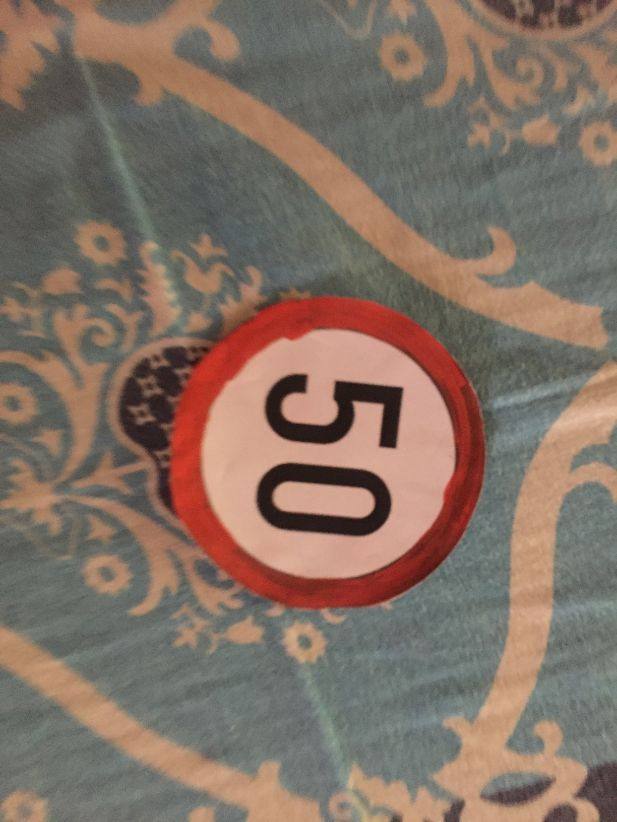speed-50: (167, 299, 476, 608)
